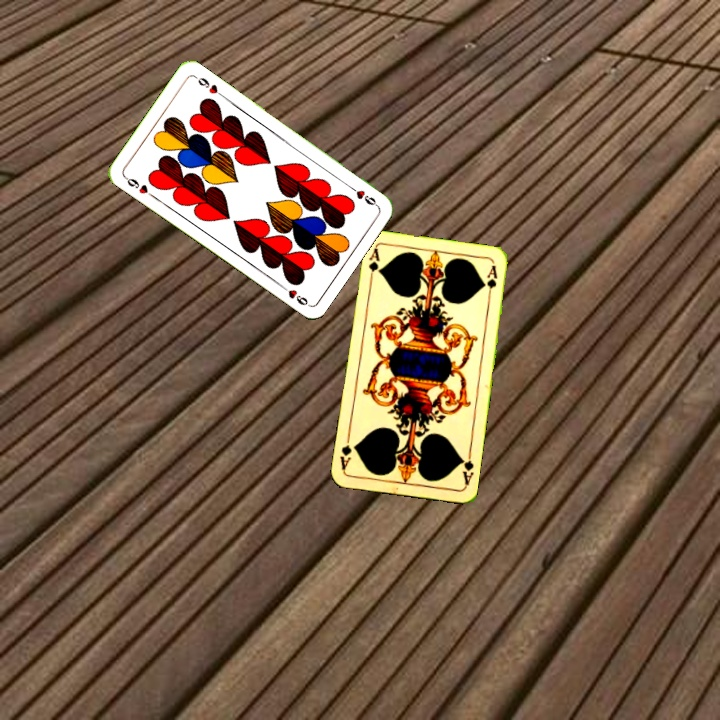GA: (457, 448, 476, 488), (365, 244, 382, 285)
H9: (120, 172, 156, 200), (344, 181, 379, 209)
